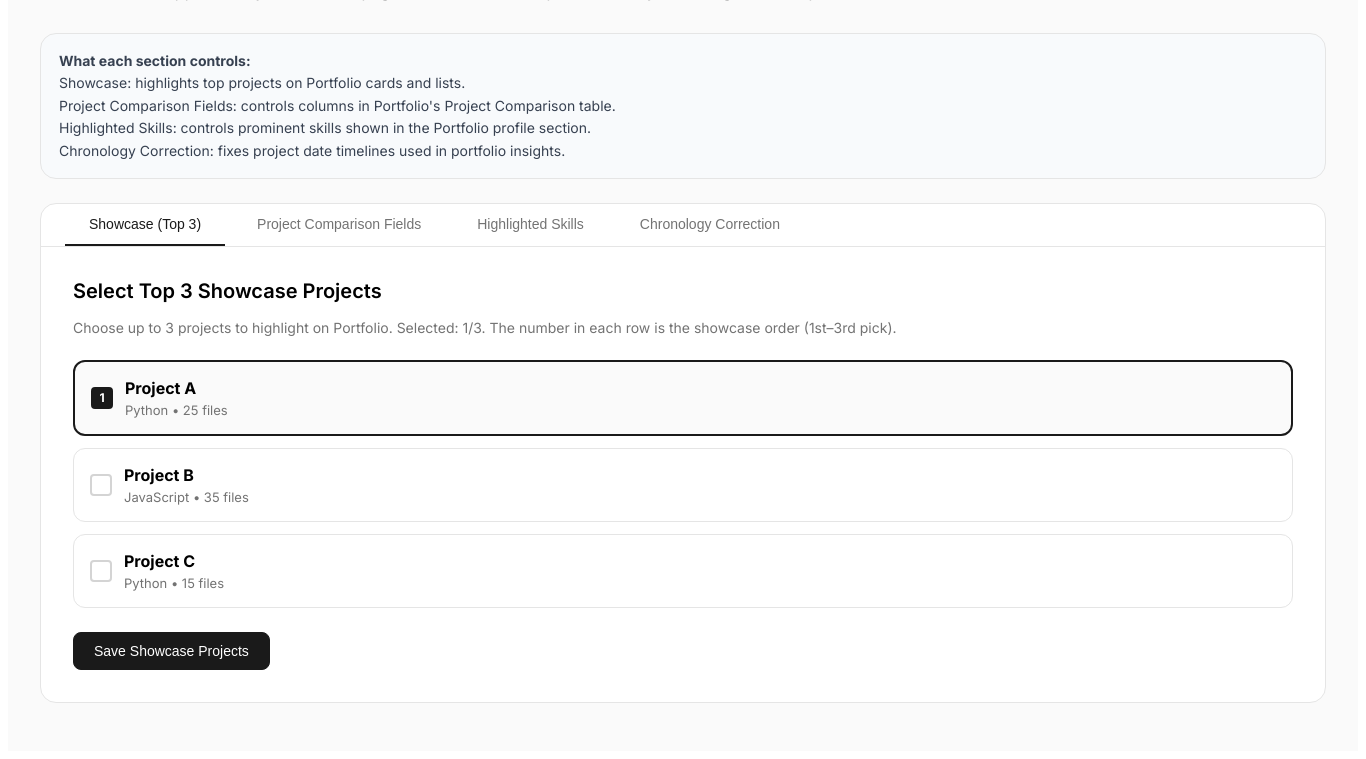
Scenario: CuratePage › Showcase Tab › shows success message after successful save
(page scrolled)
Step 1. Click the button "Save Showcase Projects" → click(171, 651), box [73,632,270,670]
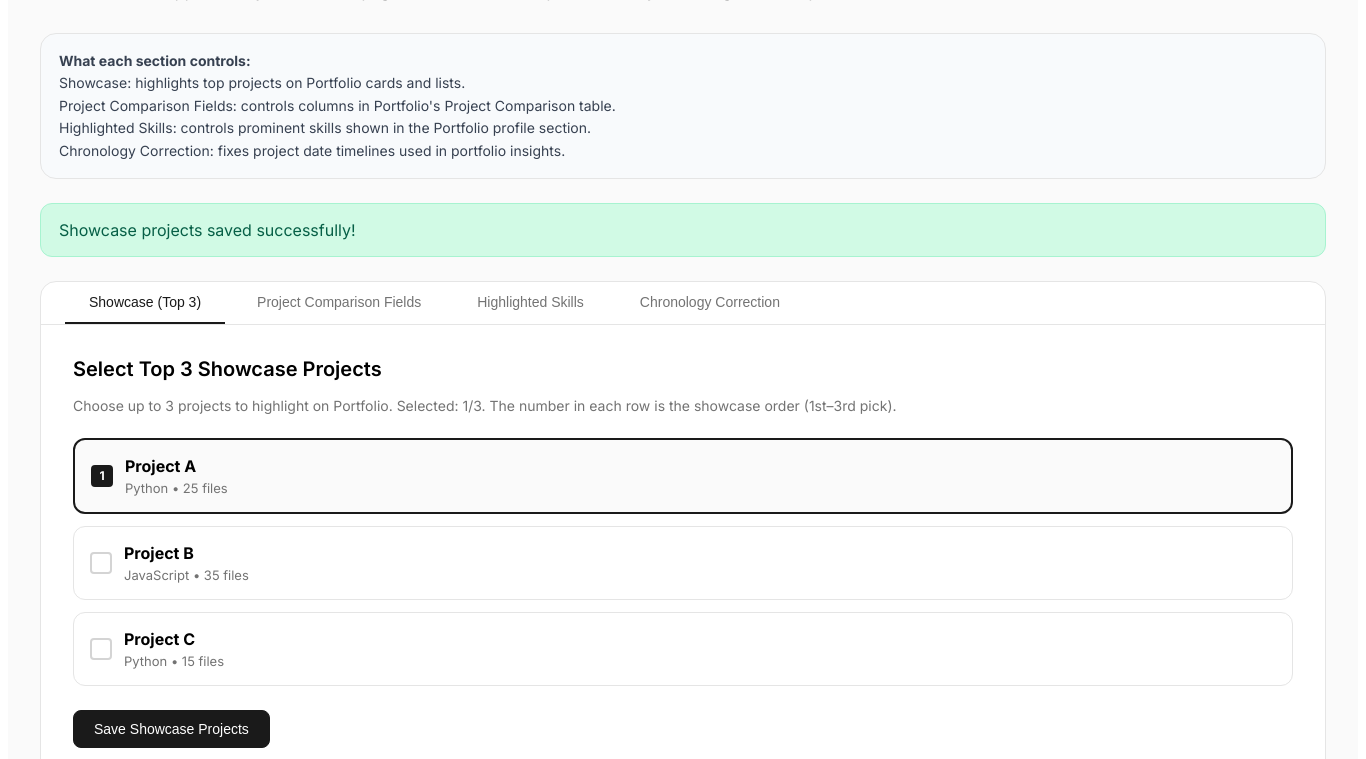
Now the text "Showcase projects saved successfully!" is shown, box [40,203,1326,257]
